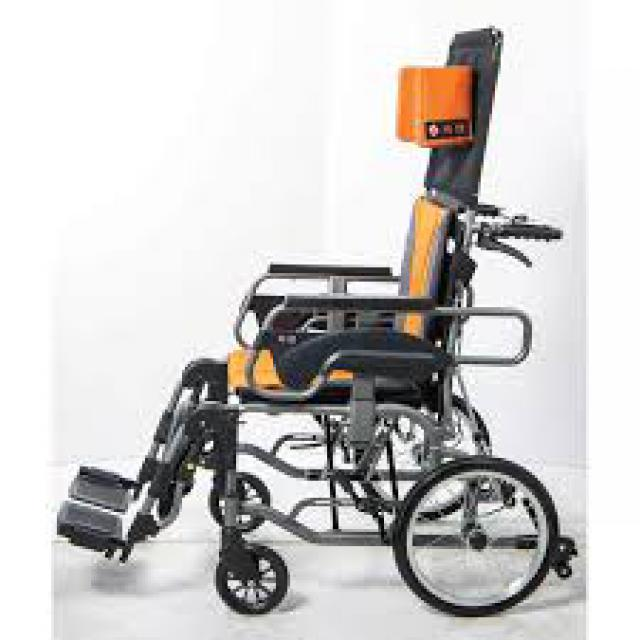wheelchair: (37, 17, 583, 637)
